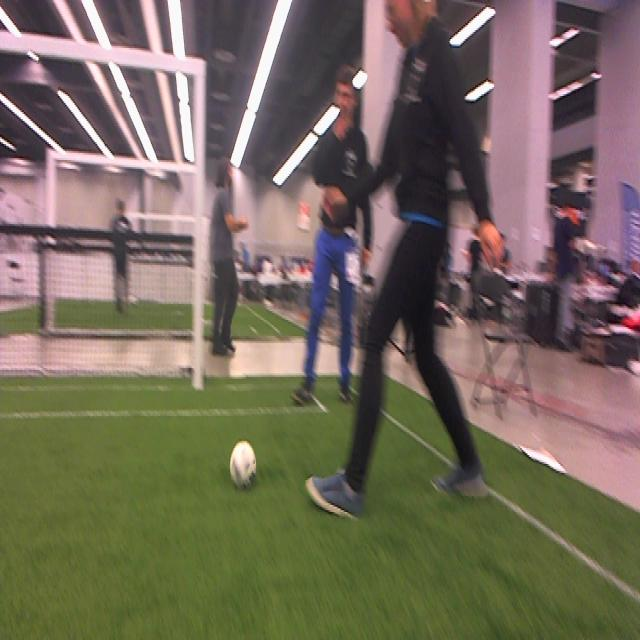ball: (230, 439, 256, 487)
goalpost: (192, 55, 207, 386)
